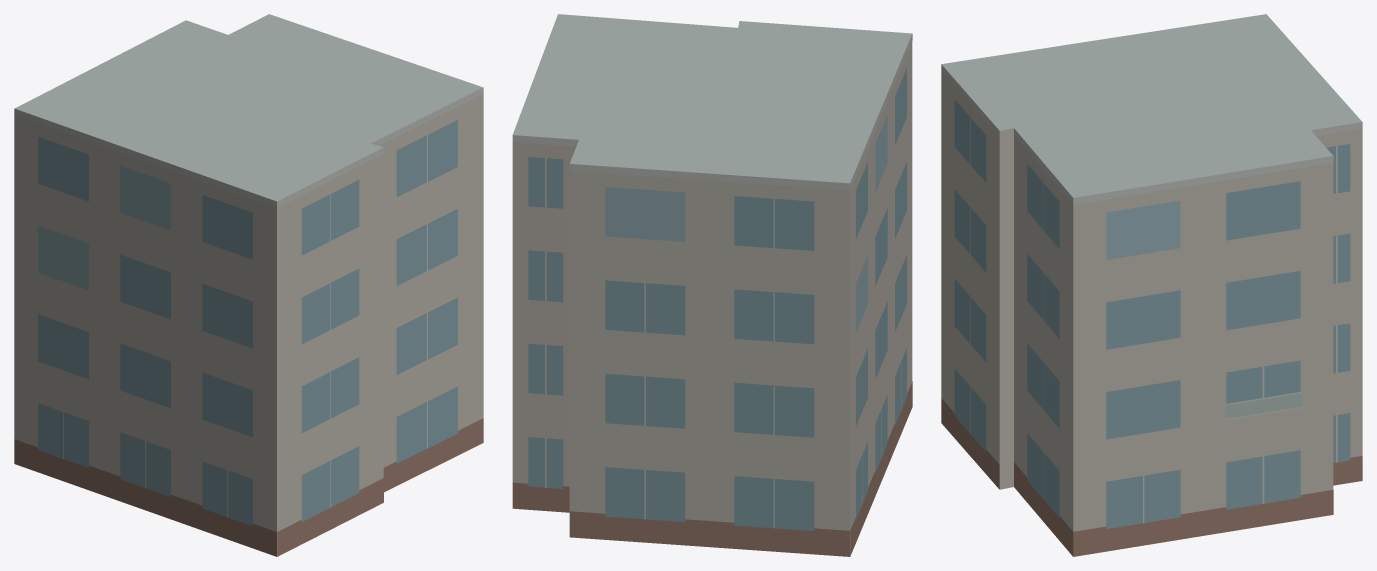
File: survey-upis-32864820.glb
3 renders of one model, left to right at view 1: azimuth 30°, elevation 25°; view 2: azimuth 150°, elevation 25°; view 3: azimuth 270°, elevation 25°, orthographic. The views are drawn at different scales.
Parts seen in each view (by area): view 1: survey-upis-32864820.tmp; view 2: survey-upis-32864820.tmp; view 3: survey-upis-32864820.tmp.
Part boxes in pixels (x1,y1,x2,y2): survey-upis-32864820.tmp: (14,14,483,556); survey-upis-32864820.tmp: (512,14,912,556); survey-upis-32864820.tmp: (941,14,1362,556).
Bounding box in the file's own units: 14.12 × 12.83 × 13.66.
